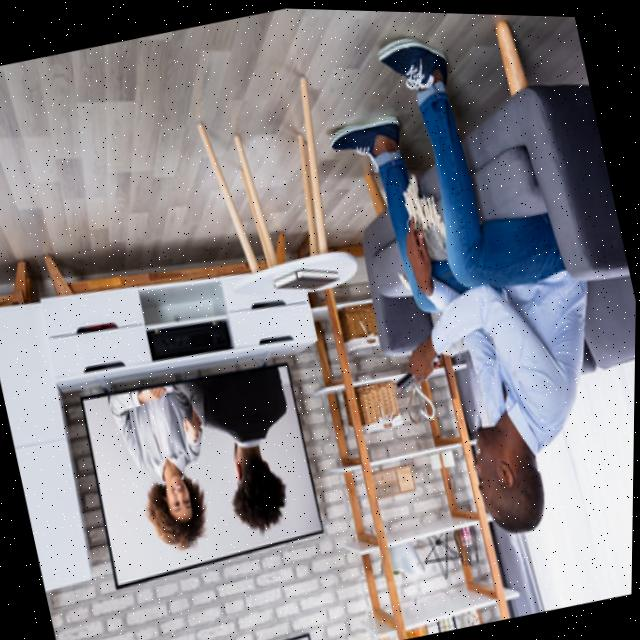tv-person: (7, 0, 640, 632)
